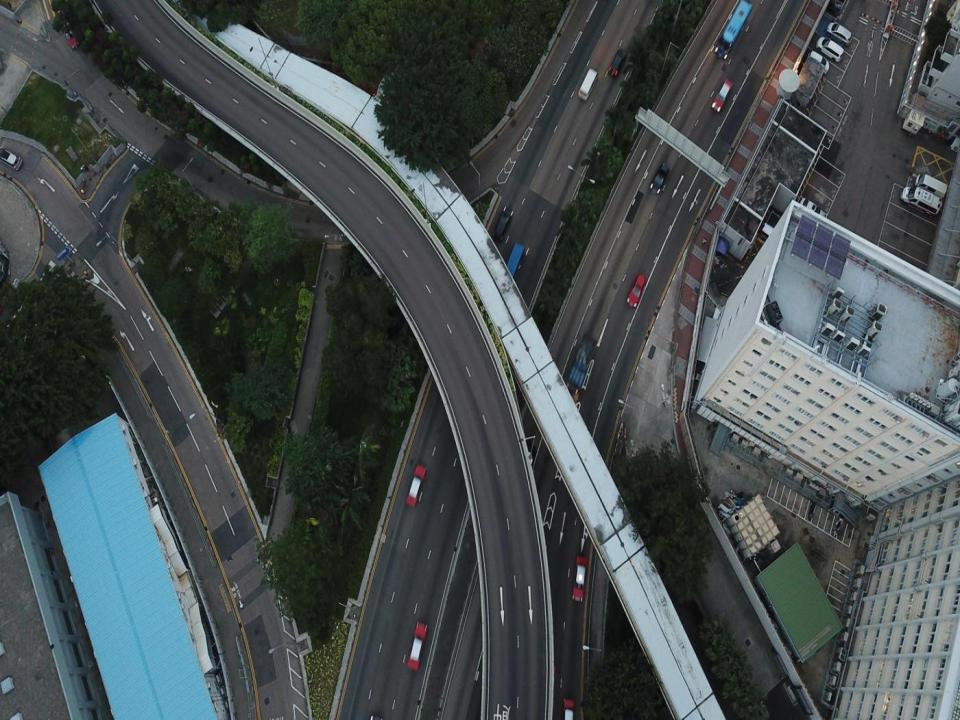bus: (714, 0, 753, 61), (566, 335, 597, 396), (501, 244, 525, 307)
car: (405, 463, 427, 507), (798, 197, 829, 226), (408, 622, 426, 671), (492, 206, 514, 242), (572, 554, 588, 601), (60, 20, 81, 50), (0, 146, 25, 171), (712, 80, 731, 112), (808, 48, 830, 72), (627, 275, 644, 305), (651, 162, 668, 192), (608, 49, 627, 74), (563, 697, 574, 719)
van: (900, 187, 944, 218), (912, 174, 948, 200), (817, 33, 846, 62), (578, 68, 598, 102), (826, 20, 853, 41)
